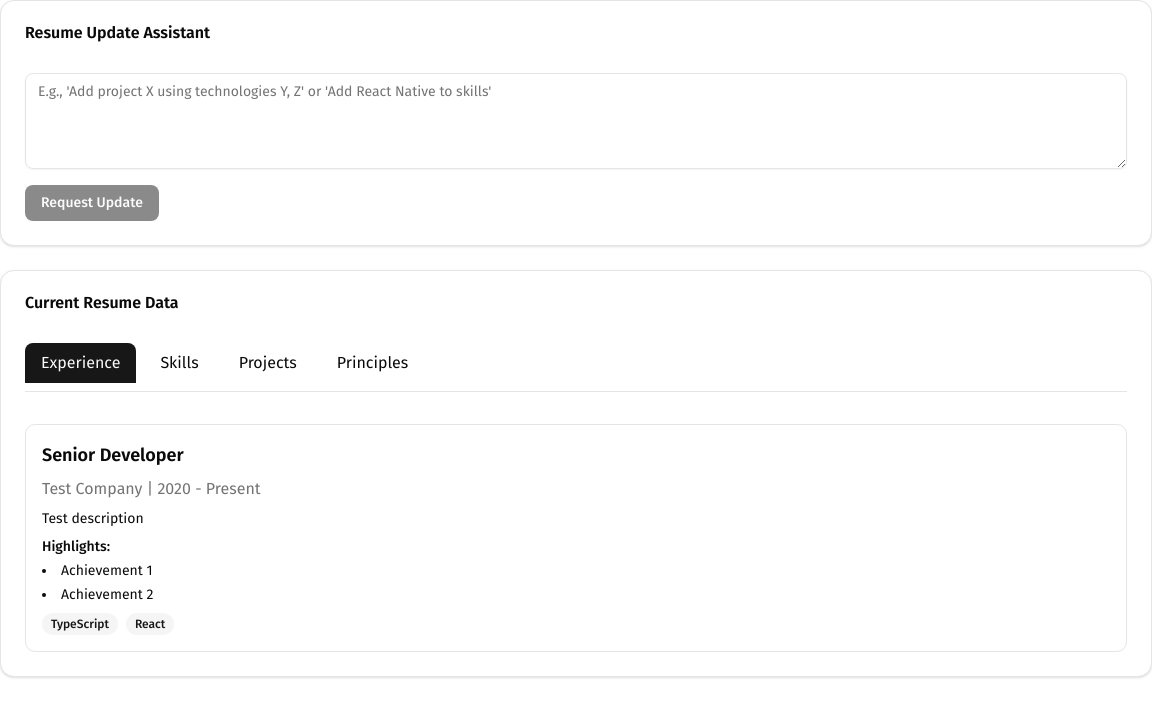
ResumeUpdater Component - T017 › Core Functionality › should display proposed changes after successful request
The width and height of the screenshot is (1152, 720).
Type "Add Python to skills" into the text box with placeholder "Add project X using technologies Y, Z".
click(576, 121); type("Add Python to skills")  # box [25, 73, 1127, 169]
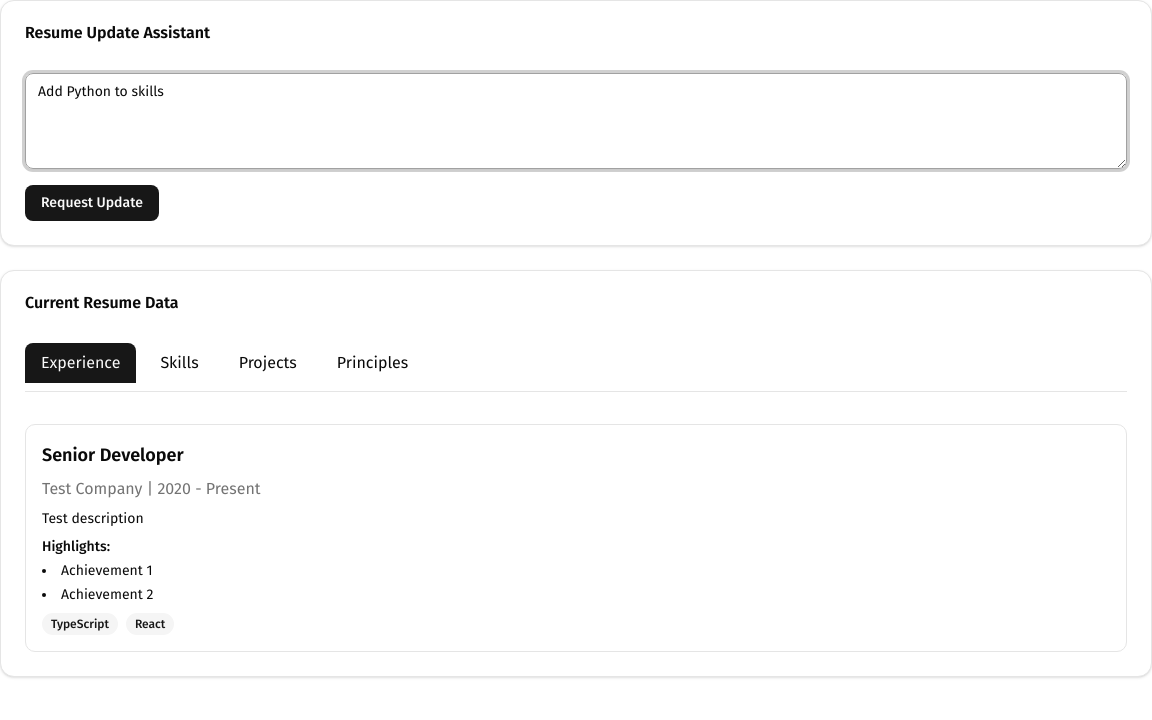
Click the button "Request Update".
click(92, 203)  # box [25, 185, 159, 221]
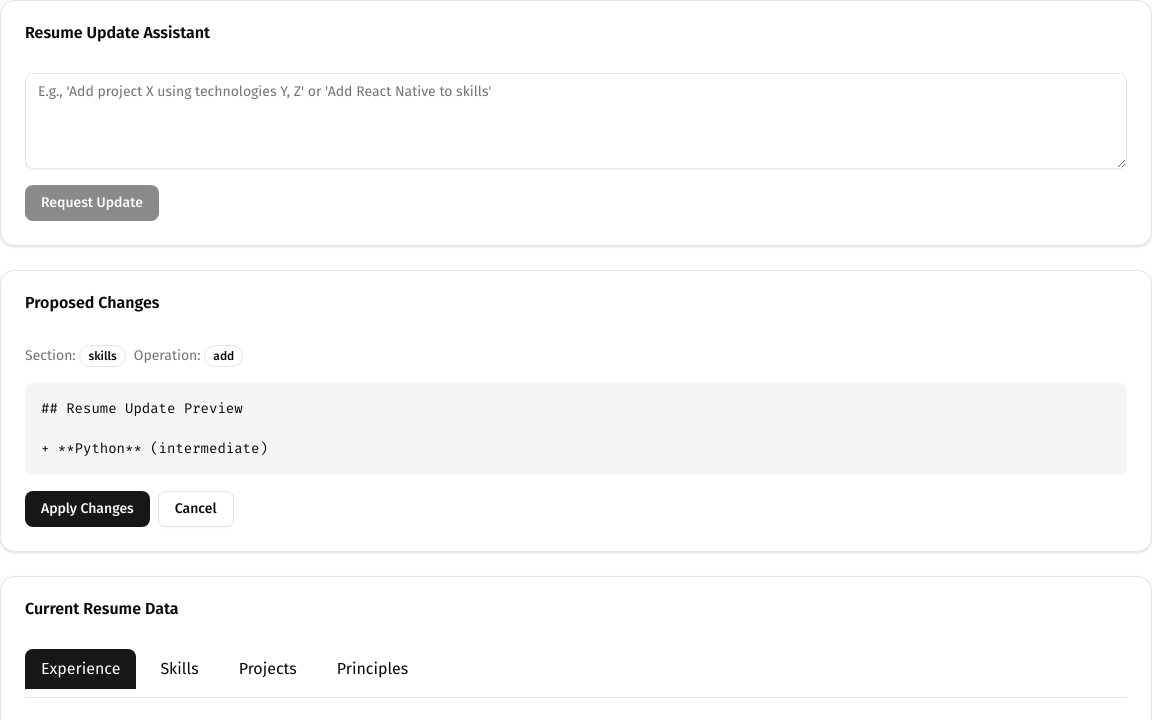
Check: the text "Proposed Changes" is shown, box [25, 293, 159, 312]
Check: the text "Section:" is shown, box [25, 347, 79, 364]
Check: the text "Operation:" is shown, box [134, 347, 204, 364]
